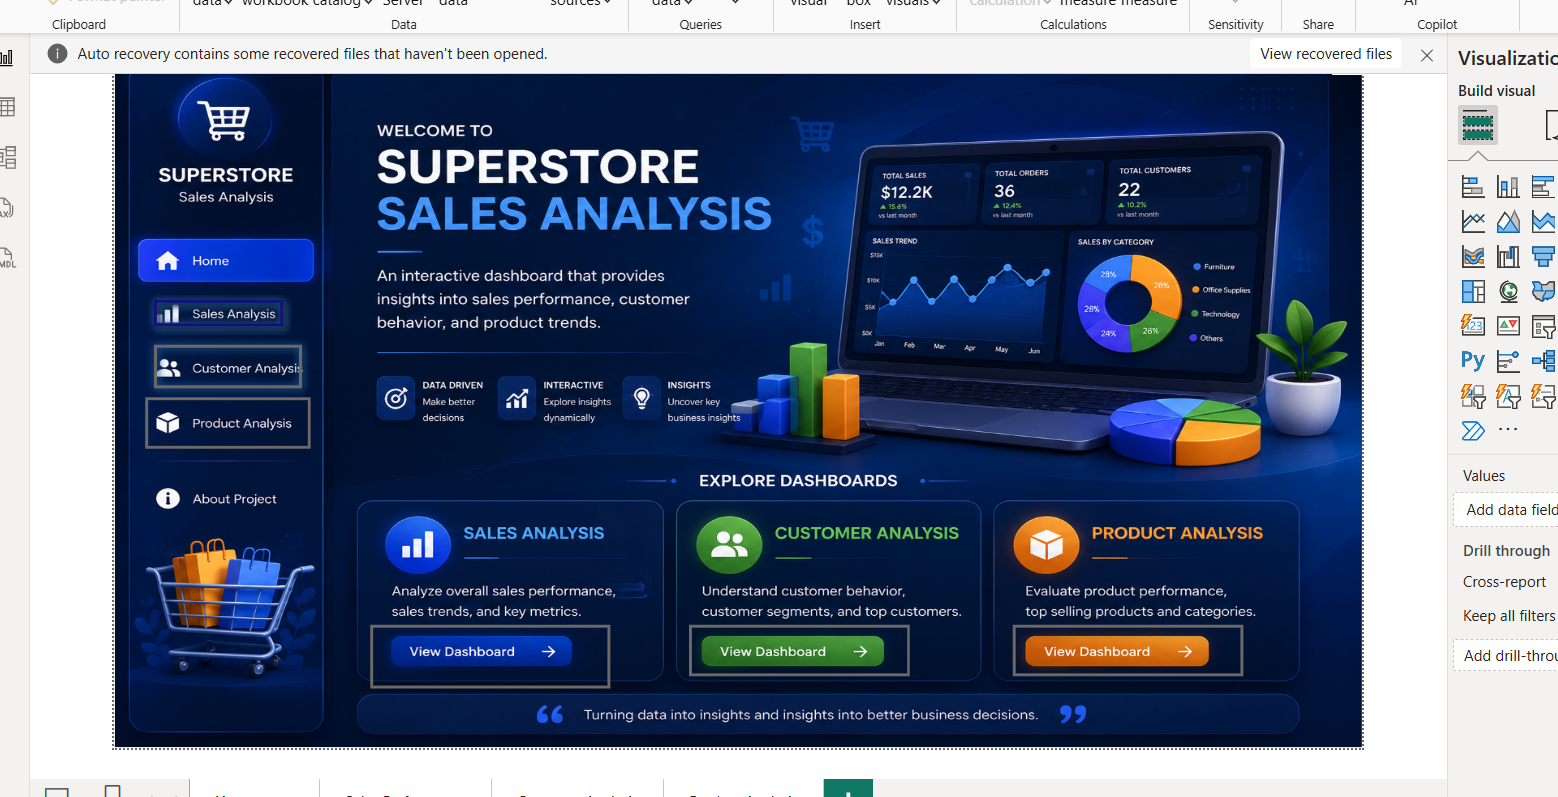

Layout of this report page (visuals, bound fields, positions):
{"tool":"powerbi","page":{"name":"Home page","canvas":[1280,720],"ordinal":0},"visuals":[{"type":"image","box":[0,0,1280.3,720.2],"z":0},{"type":"actionButton","box":[31.8,251.9,150.4,45.2],"z":1000},{"type":"actionButton","box":[32,297.7,169.7,62.6],"z":2000},{"type":"actionButton","box":[32,360.3,169.7,52.9],"z":3000},{"type":"actionButton","box":[263,594.1,246.3,65.4],"z":4000},{"type":"actionButton","box":[589.9,594.1,226.8,52.9],"z":5000},{"type":"actionButton","box":[922.4,594.1,236.5,52.9],"z":6000}]}

Visuals, with their boxes on the page's 1280x720 design canvas (x1, y1, x2, y2). These are canvas units, not pixel positions in the 1558x797 screenshot, which may show the page scaled, cropped or inside an application window:
image: {"x1": 0, "y1": 0, "x2": 1280, "y2": 720}
actionButton: {"x1": 32, "y1": 252, "x2": 182, "y2": 297}
actionButton: {"x1": 32, "y1": 298, "x2": 202, "y2": 360}
actionButton: {"x1": 32, "y1": 360, "x2": 202, "y2": 413}
actionButton: {"x1": 263, "y1": 594, "x2": 509, "y2": 660}
actionButton: {"x1": 590, "y1": 594, "x2": 817, "y2": 647}
actionButton: {"x1": 922, "y1": 594, "x2": 1159, "y2": 647}
